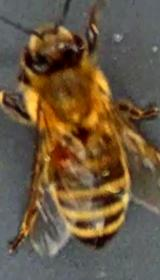varroa_mite: (45, 141, 76, 169)
